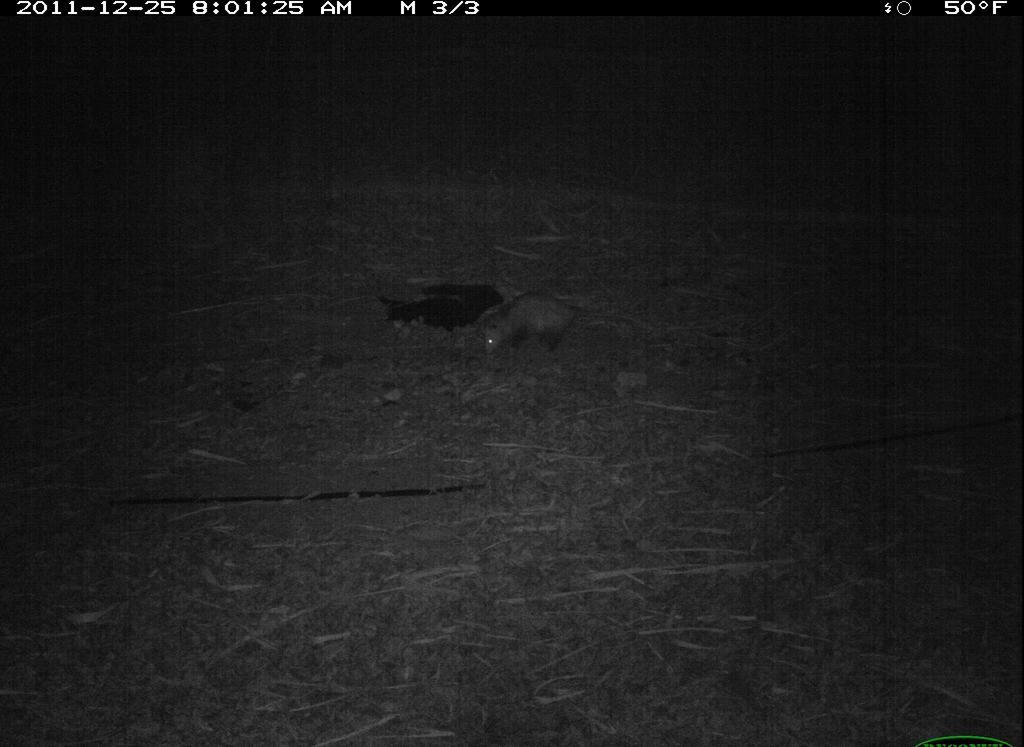opossum: (476, 288, 635, 364)
